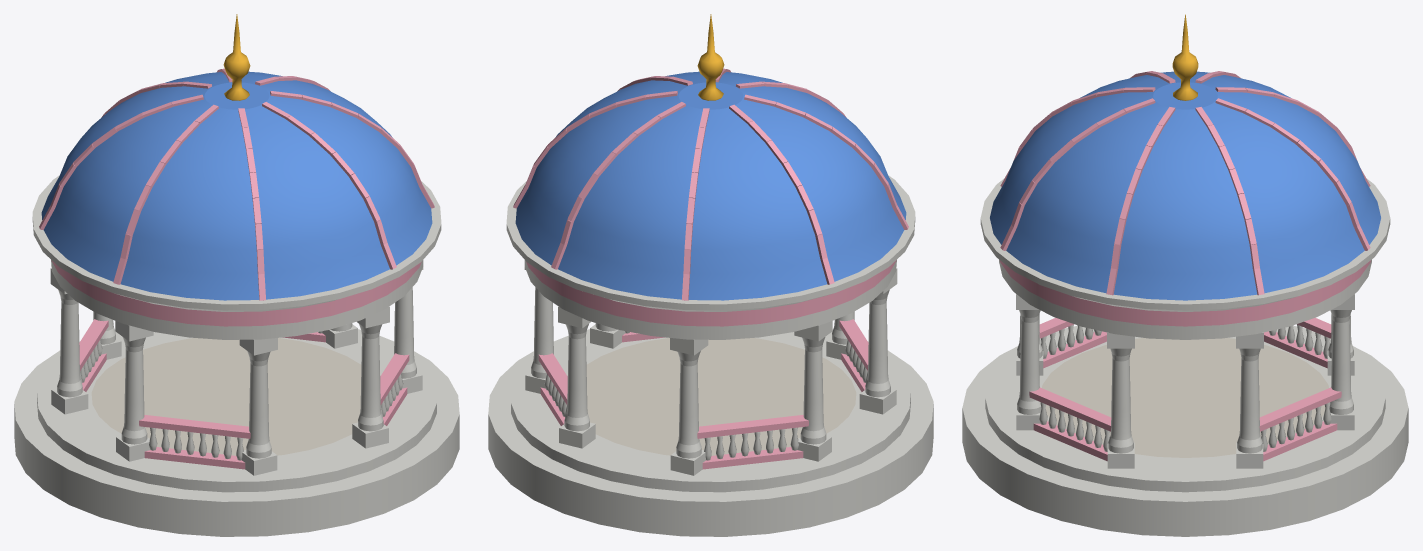
File: SM_ObeliskGirls_Gazebo.fbx
3 views of the same model, side by side, from view 1: azimuth 30°, elevation 25°; view 2: azimuth 150°, elevation 25°; view 3: azimuth 270°, elevation 25° (orthographic).
Parts seen in each view (by area): view 1: SM_ObeliskGirls_Gazebo; view 2: SM_ObeliskGirls_Gazebo; view 3: SM_ObeliskGirls_Gazebo.
Boxes of the visible parts, x1=… form: SM_ObeliskGirls_Gazebo: x1=14, y1=14, x2=459, y2=536; SM_ObeliskGirls_Gazebo: x1=488, y1=14, x2=933, y2=536; SM_ObeliskGirls_Gazebo: x1=962, y1=14, x2=1408, y2=536.
Size of the model in its own units: 9.8 by 10.39 by 9.8.
